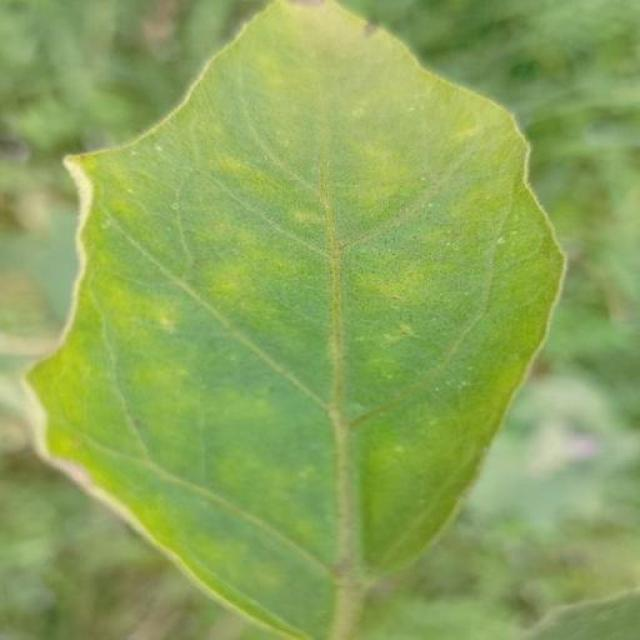leaf_spot: (384, 32, 536, 185), (168, 214, 309, 346), (53, 243, 184, 382), (86, 468, 235, 584), (22, 355, 150, 484), (104, 96, 241, 199), (329, 88, 424, 236), (154, 350, 280, 459), (173, 35, 319, 128), (442, 331, 525, 494), (256, 0, 394, 94), (205, 549, 343, 640), (210, 438, 327, 544), (60, 142, 151, 257), (192, 139, 295, 232), (350, 248, 474, 323), (439, 172, 539, 262), (357, 432, 447, 512), (521, 231, 571, 349), (360, 309, 424, 399)
